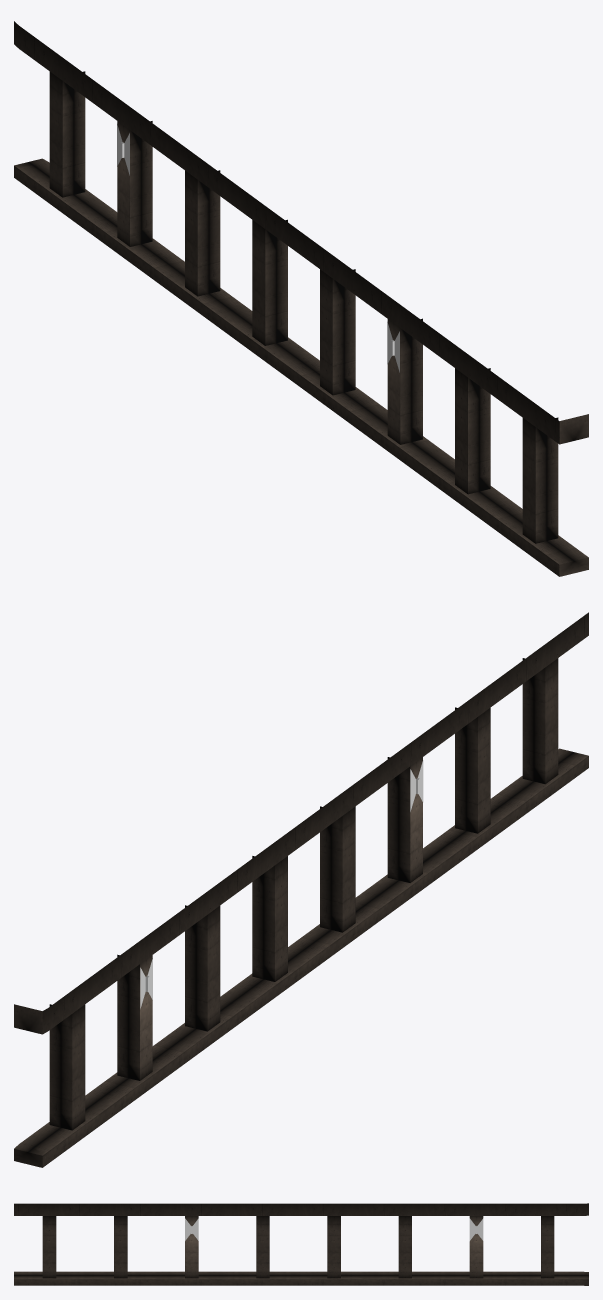
Rendered from AMB_MEI_CHIKA_HASHIRA.glb.
3 renders of one model, top to bottom at view 1: azimuth 30°, elevation 25°; view 2: azimuth 150°, elevation 25°; view 3: azimuth 270°, elevation 25°, orthographic. The views are drawn at different scales.
Visible parts, largest first — view 1: RAIL, obj1, obj9, obj7, obj5, obj8, obj2, obj6, obj4; view 2: RAIL, obj9, obj1, obj7, obj6, obj4, obj8, obj2, obj5; view 3: RAIL, obj9, obj2, obj8, obj7, obj6, obj5, obj4, obj1.
Part boxes in pixels (box(x1,y1,x2,y2)): RAIL: box(14, 21, 588, 576); obj1: box(49, 71, 85, 197); obj9: box(522, 417, 558, 543); obj7: box(387, 318, 422, 444); obj5: box(252, 219, 287, 345); obj8: box(455, 368, 490, 494); obj2: box(117, 121, 152, 246); obj6: box(320, 269, 355, 395); obj4: box(185, 170, 220, 296); RAIL: box(14, 612, 588, 1167); obj9: box(522, 658, 558, 784); obj1: box(49, 1004, 85, 1130); obj7: box(387, 757, 423, 882); obj6: box(320, 806, 355, 932); obj4: box(185, 905, 220, 1031); obj8: box(455, 707, 490, 833); obj2: box(117, 954, 152, 1080); obj5: box(252, 856, 287, 981); RAIL: box(14, 1203, 588, 1285); obj9: box(42, 1216, 56, 1278); obj2: box(469, 1216, 483, 1278); obj8: box(114, 1216, 127, 1278); obj7: box(185, 1216, 198, 1278); obj6: box(256, 1216, 269, 1278); obj5: box(327, 1216, 340, 1278); obj4: box(398, 1216, 411, 1278); obj1: box(541, 1216, 554, 1278).
Bounding box in the file's own units: 3.15 × 16 × 101.
Materials: 15 (15 with a texture image).
